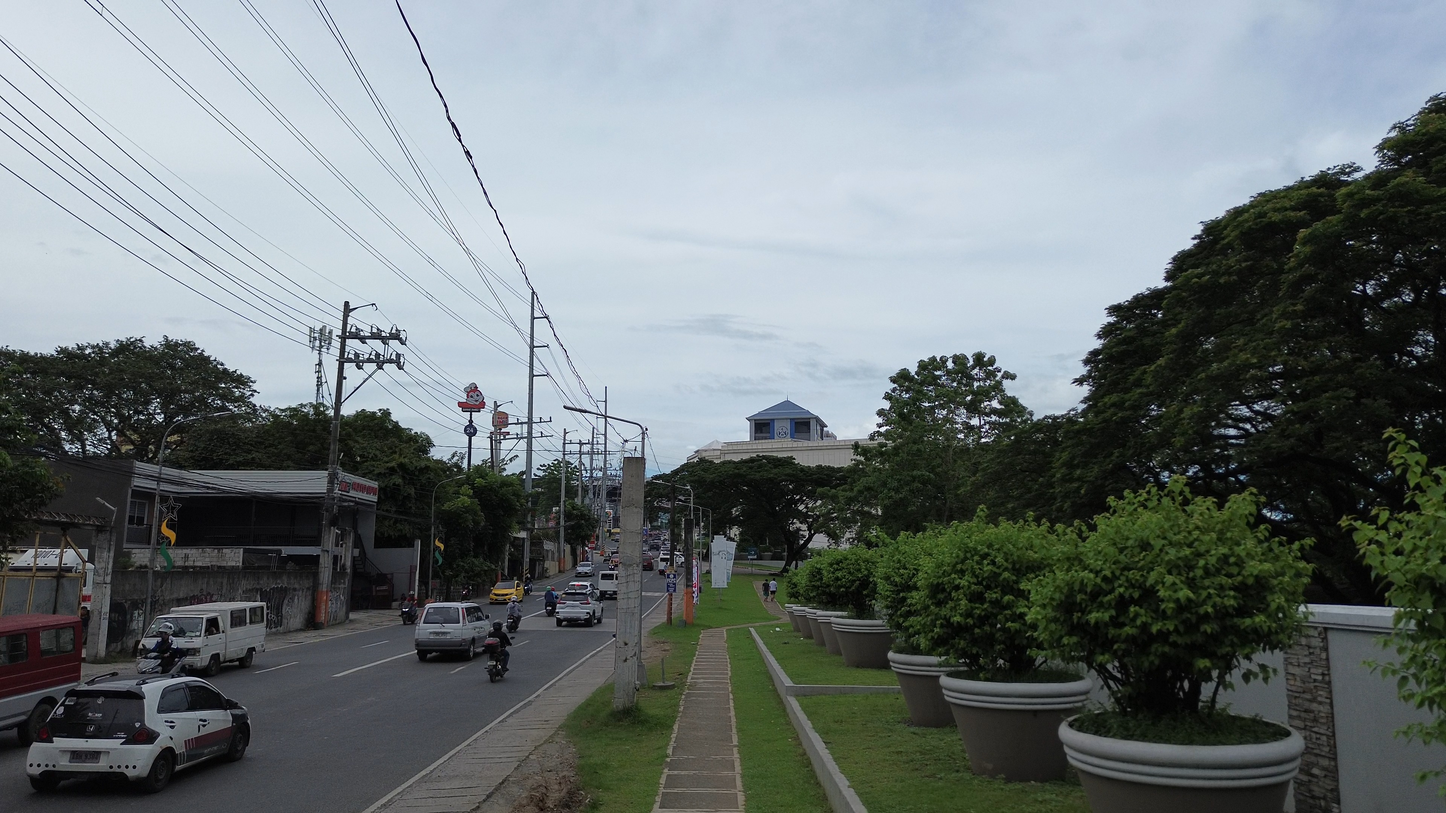car: (26, 675, 250, 792), (561, 580, 595, 592)
motorcycle: (136, 652, 183, 675), (483, 636, 506, 682), (506, 616, 521, 632)
vehicle: (0, 614, 81, 745), (140, 602, 267, 676), (4, 548, 94, 612), (414, 602, 489, 660), (555, 585, 603, 626), (489, 580, 523, 603), (597, 570, 619, 599), (400, 604, 416, 625), (576, 561, 594, 576), (642, 553, 654, 570)
